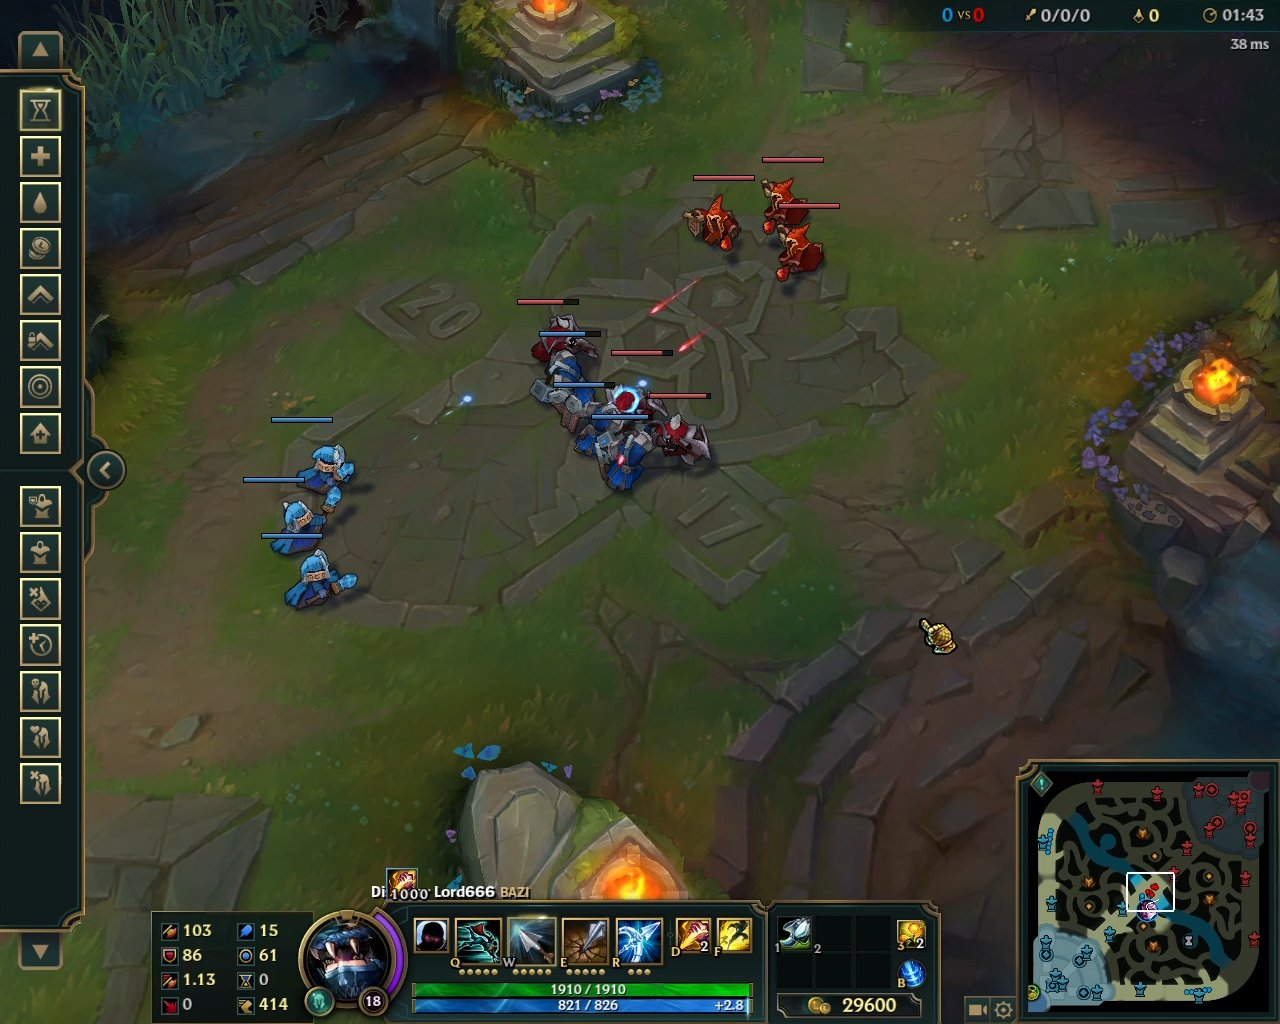EnemyMinion: (679, 174, 755, 253), (770, 202, 842, 282), (603, 349, 677, 426), (645, 391, 719, 467), (517, 297, 598, 367), (759, 155, 823, 236)
